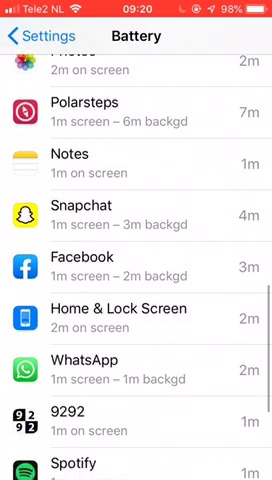app: (12, 144, 264, 182), (12, 197, 264, 235), (13, 247, 265, 285), (11, 298, 263, 336), (11, 349, 263, 387), (10, 403, 262, 441)
